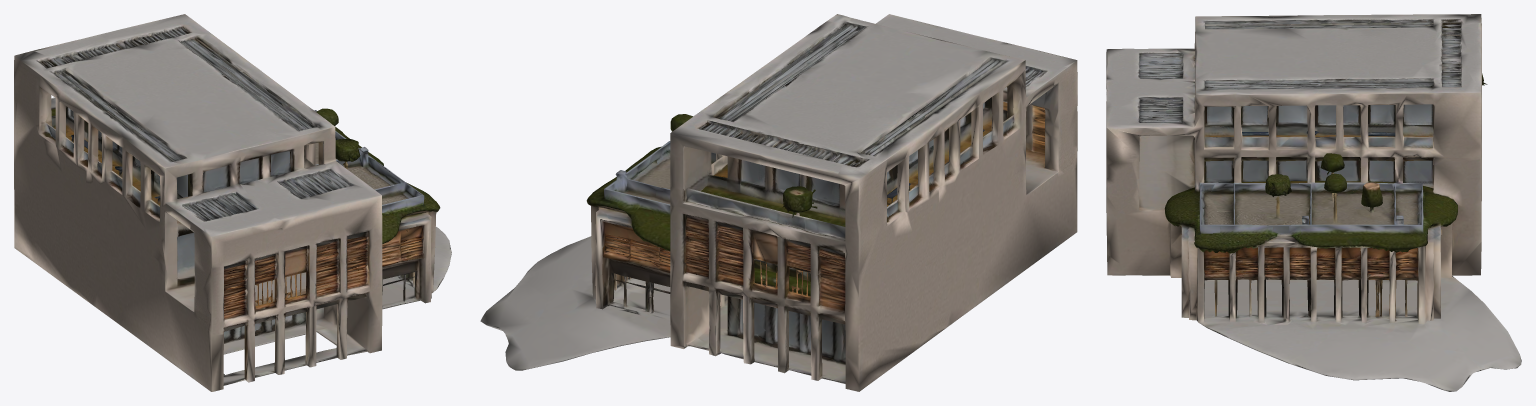
File: shopblk2_lod1.glb
The picture shows the model from 3 angles, left to right: view 1: azimuth 30°, elevation 25°; view 2: azimuth 150°, elevation 25°; view 3: azimuth 270°, elevation 25°; orthographic projection. The views are drawn at different scales.
Parts seen in each view (by area): view 1: tripo_node_5acd3120-45ed-42f4-8d7c-3d152befa4bf; view 2: tripo_node_5acd3120-45ed-42f4-8d7c-3d152befa4bf; view 3: tripo_node_5acd3120-45ed-42f4-8d7c-3d152befa4bf.
Part boxes in pixels (x1,y1,x2,y2): tripo_node_5acd3120-45ed-42f4-8d7c-3d152befa4bf: (14, 14, 451, 391); tripo_node_5acd3120-45ed-42f4-8d7c-3d152befa4bf: (480, 14, 1077, 391); tripo_node_5acd3120-45ed-42f4-8d7c-3d152befa4bf: (1106, 14, 1521, 391).
Bounding box in the file's own units: 19.62 × 11.98 × 20.79.
Materials: 1 (1 with a texture image).
